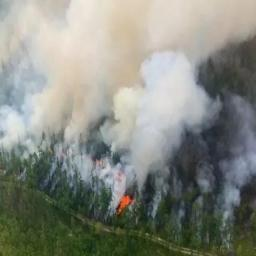Heavy smoke: (2, 0, 256, 165)
Low smoke: (225, 92, 256, 231)
Medium fire: (112, 187, 136, 215)
